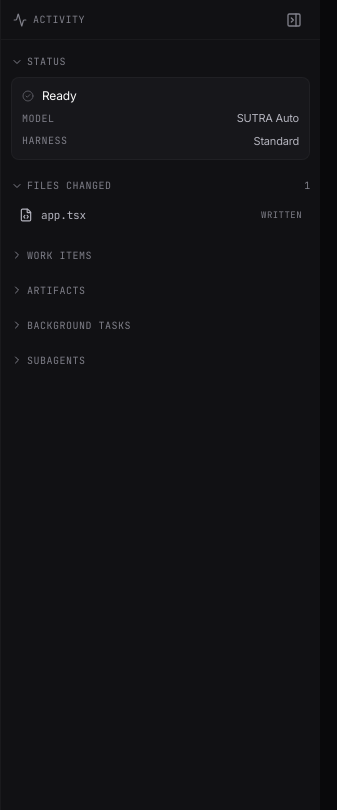
Test case: ActivityPanel › collapses a section via its chevron without losing state
Expected: the text "app.tsx" is shown, [41,208,86,222]
Click the button "Files Changed 1".
click(69, 186)  # box [11,176,310,195]
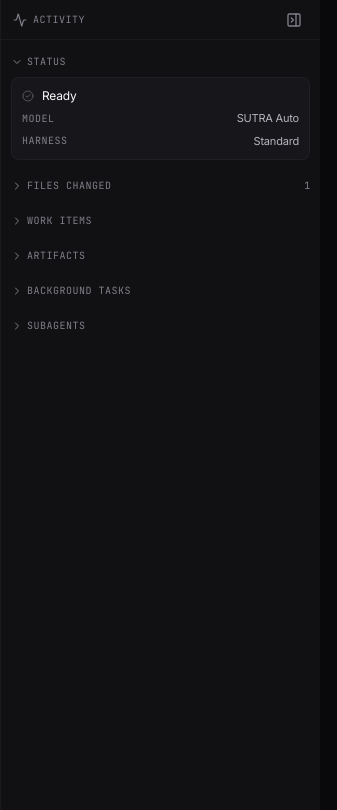
Now the button "Files Changed 1" is collapsed
Now the text "app.tsx" is gone
Click the button "Files Changed 1".
click(69, 186)  # box [11,176,310,195]
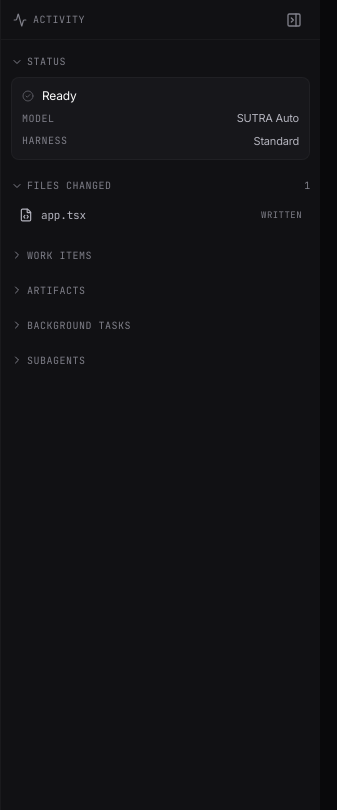
Now the text "app.tsx" is shown, box [41,208,86,222]
